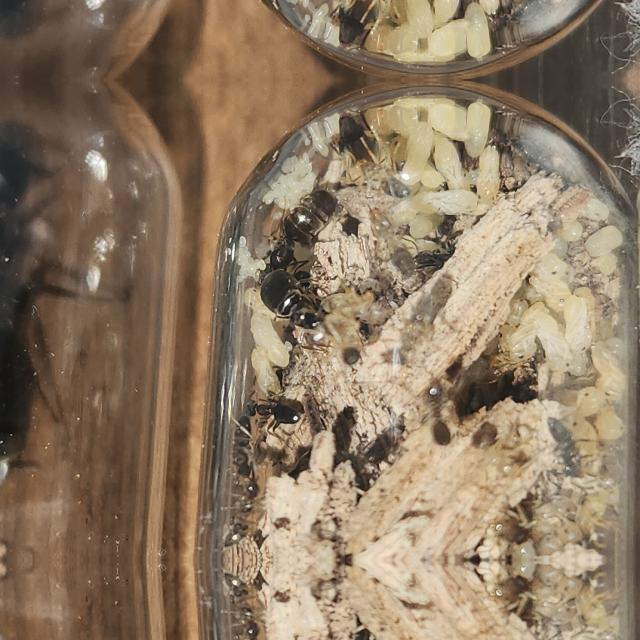Tapinoma: (245, 262, 352, 346), (248, 189, 338, 279), (558, 410, 610, 494), (412, 375, 462, 449), (408, 235, 477, 287), (240, 388, 314, 434), (217, 472, 265, 542), (217, 578, 265, 640)
